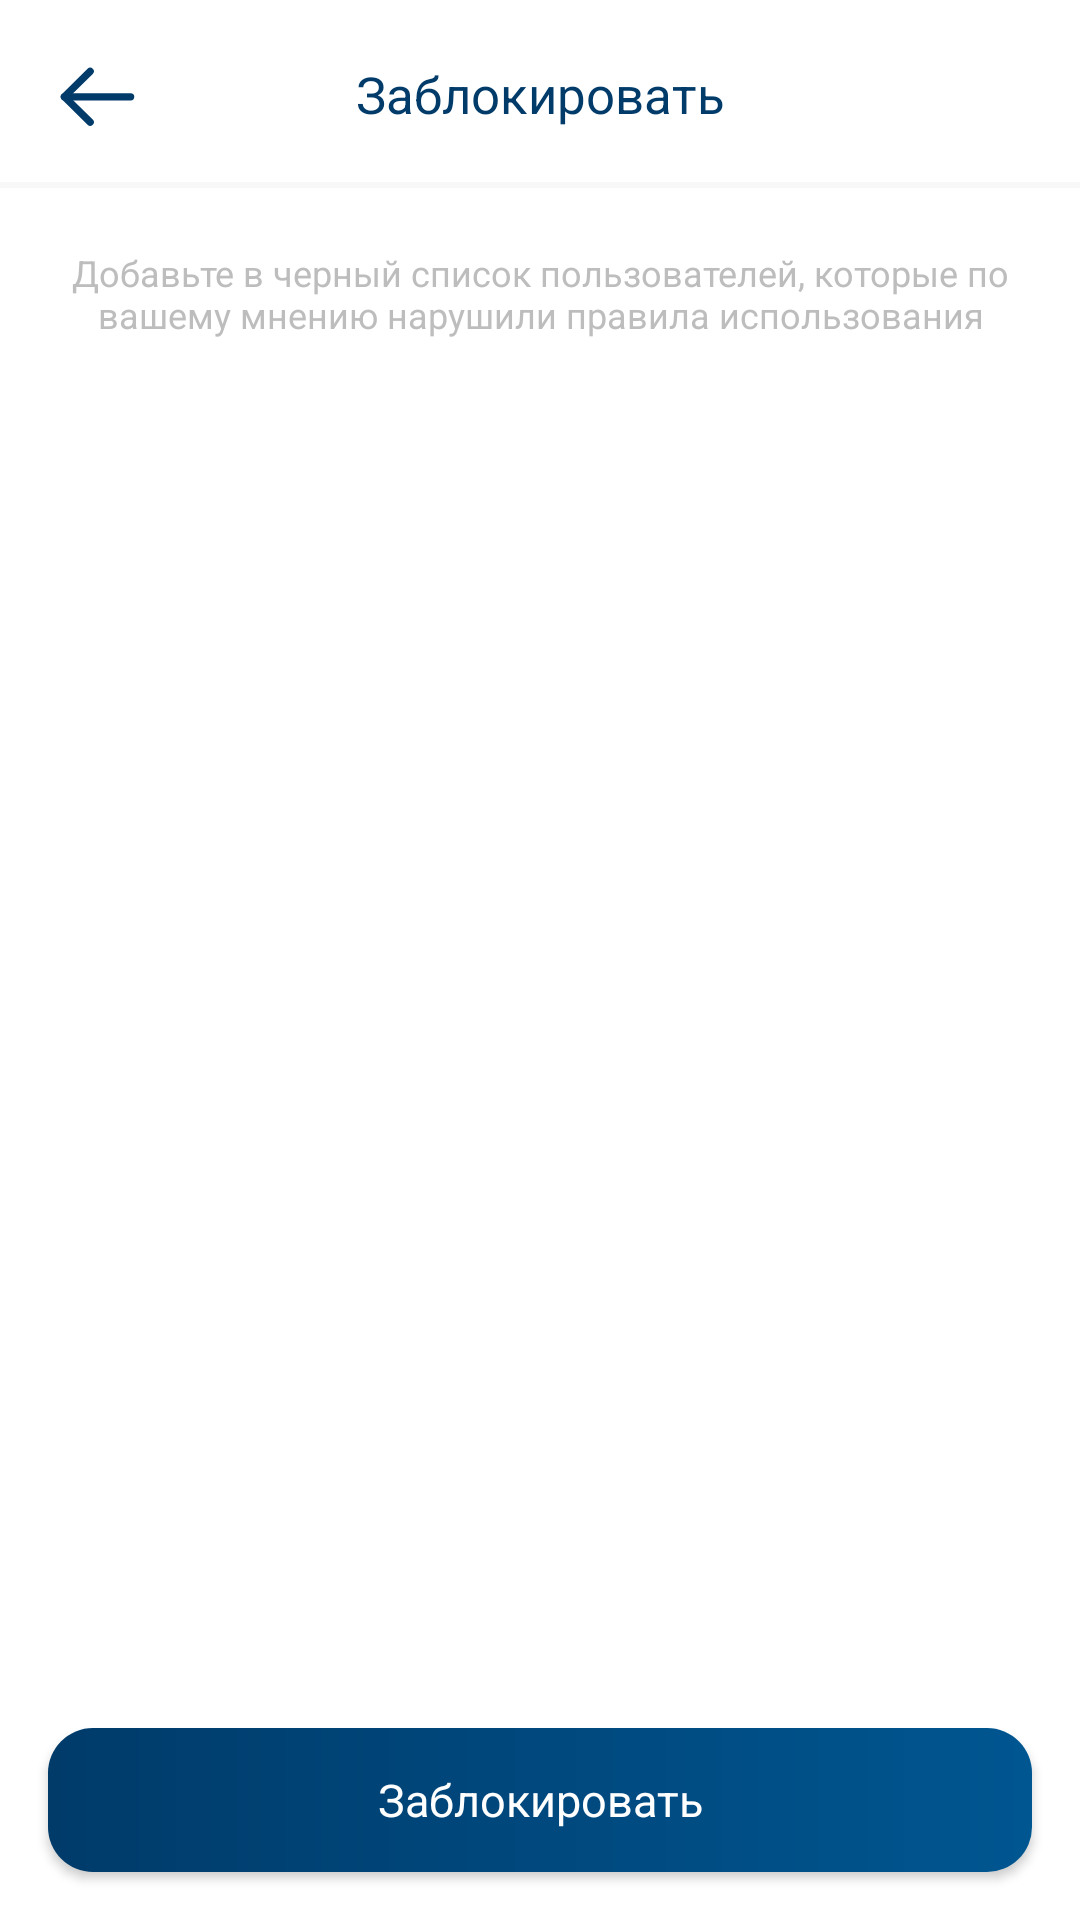

Point at icon controls on the screen. Image size 1080 x 1920, points as (x,y).
back cursor: (97,96)
